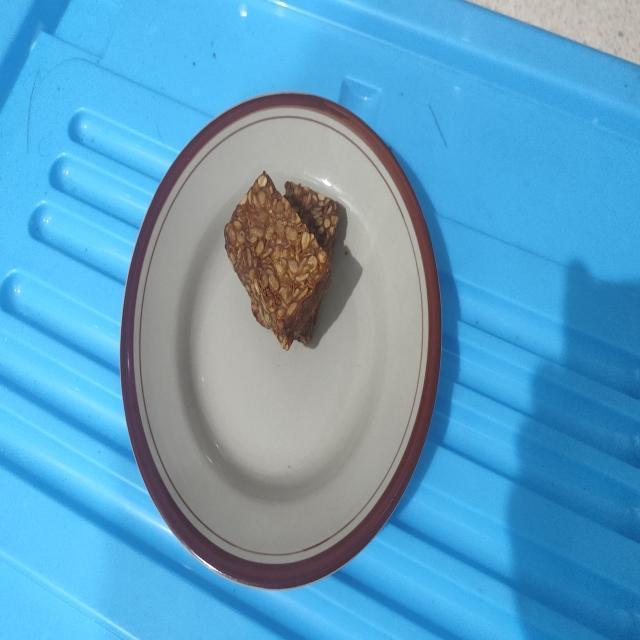tempe_goreng: (224, 172, 330, 350), (284, 180, 340, 258)
